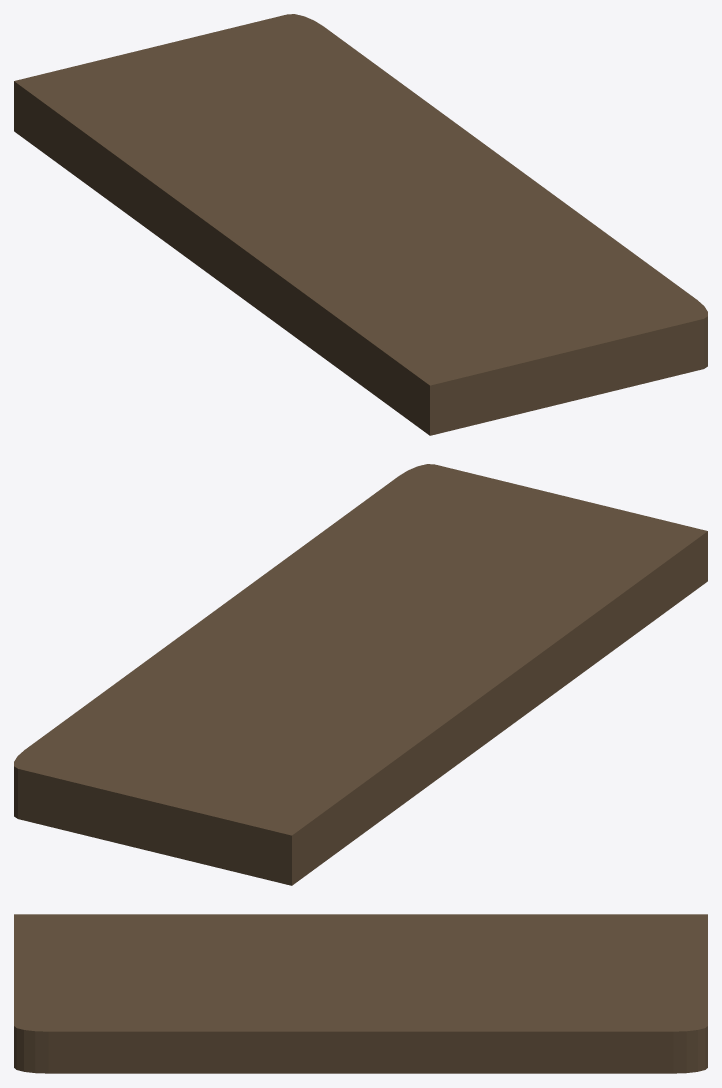
File: Communication-table.glb
3 views of the same model, one above another, from view 1: azimuth 30°, elevation 25°; view 2: azimuth 150°, elevation 25°; view 3: azimuth 270°, elevation 25° (orthographic). The views are drawn at different scales.
Parts seen in each view (by area): view 1: Cube; view 2: Cube; view 3: Cube.
Boxes of the visible parts, bbox=[...] form: Cube: bbox=[14, 14, 707, 435]; Cube: bbox=[14, 464, 707, 885]; Cube: bbox=[14, 914, 707, 1073].
Bounding box in the file's own units: 2.4 × 0.4 × 6.
